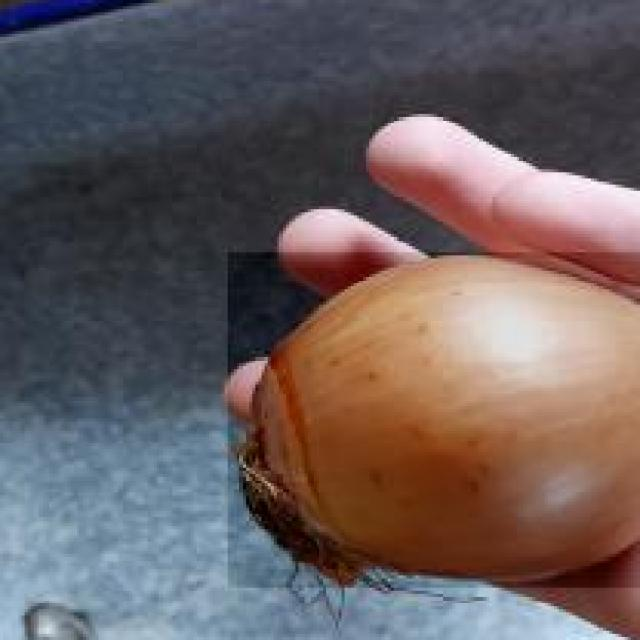onion: (225, 249, 640, 587)
